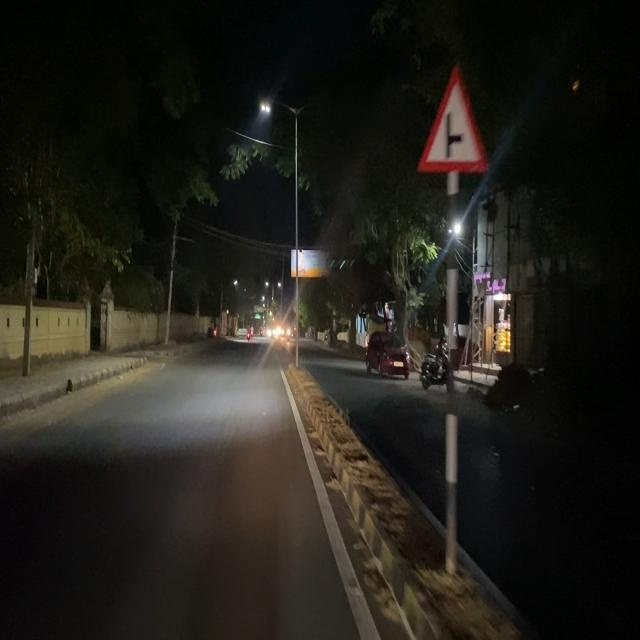bien_nguy_hiem: (416, 58, 488, 180)
